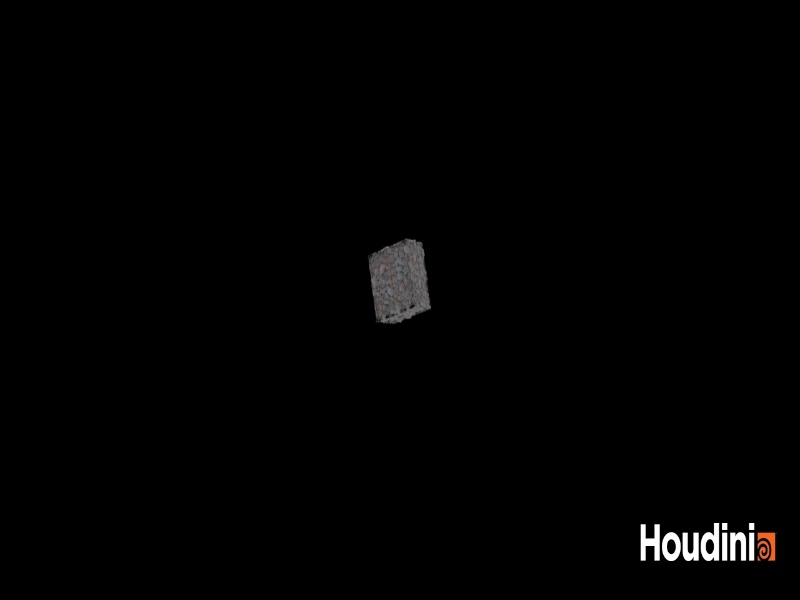waste: (365, 223, 439, 332)
